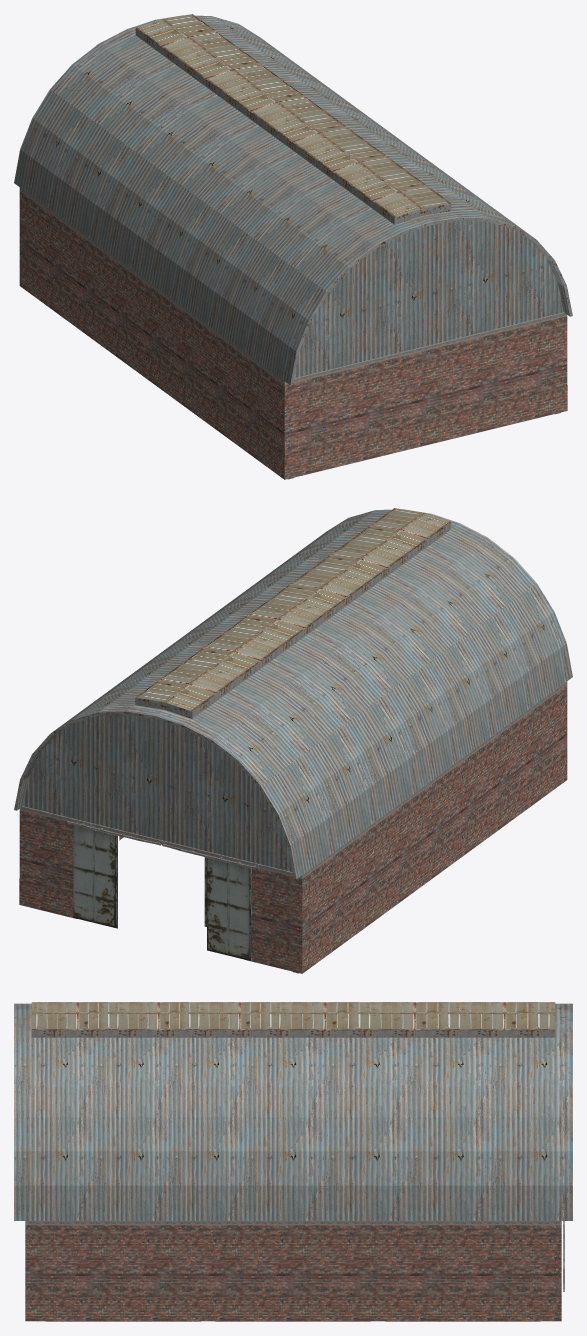
Rendered from building_6_lod1.DAE.
3 views of the same model, one above another, from view 1: azimuth 30°, elevation 25°; view 2: azimuth 150°, elevation 25°; view 3: azimuth 270°, elevation 25° (orthographic).
Visible parts, largest first — view 1: Mesh_Object; view 2: Mesh_Object; view 3: Mesh_Object.
Boxes of the visible parts, box(x1,y1,x2,y2) form: Mesh_Object: box(14, 14, 572, 479); Mesh_Object: box(14, 508, 572, 973); Mesh_Object: box(14, 1002, 572, 1321).
Bounding box in the file's own units: 12.55 × 10.1 × 21.23.
